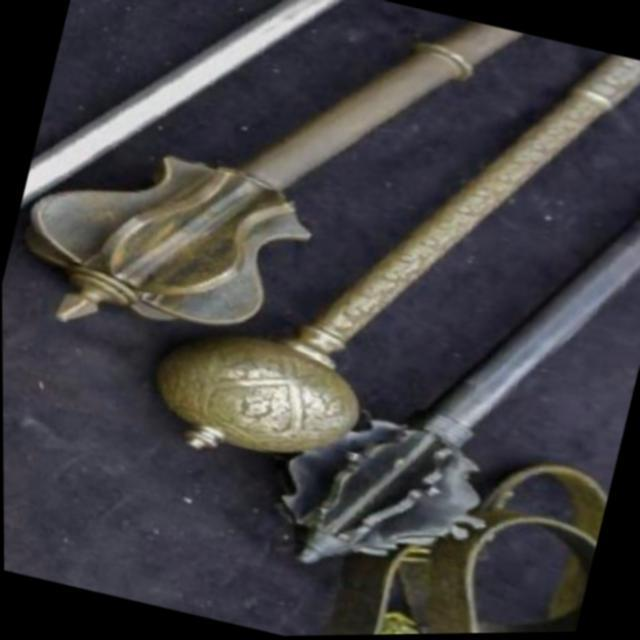weapon: (135, 0, 640, 543)
